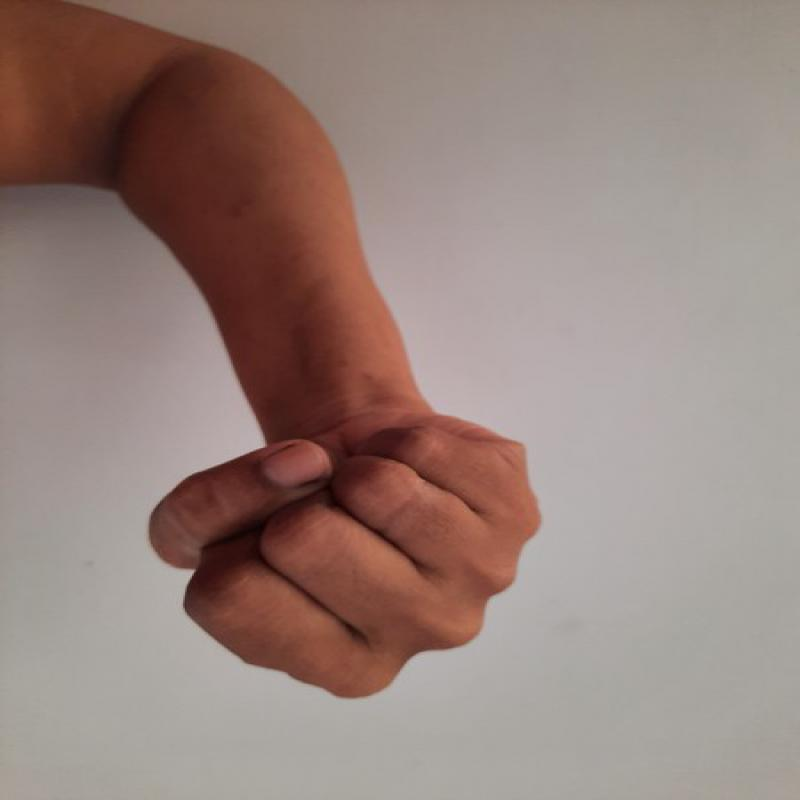Mushti: (136, 399, 546, 710)
